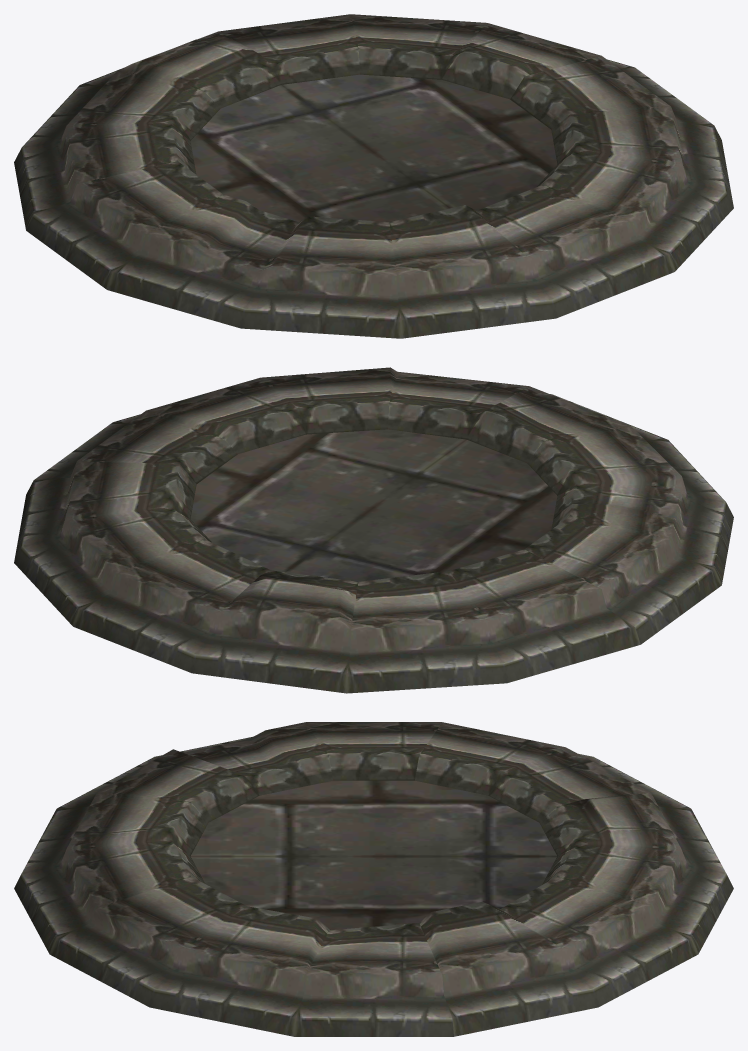
The model's file is h5_dimian.FBX.
3 views of the same model, one above another, from view 1: azimuth 30°, elevation 25°; view 2: azimuth 150°, elevation 25°; view 3: azimuth 270°, elevation 25° (orthographic).
Visible parts, largest first — view 1: h5_dimian; view 2: h5_dimian; view 3: h5_dimian.
Boxes of the visible parts, x1=… form: h5_dimian: x1=14, y1=14, x2=733, y2=338; h5_dimian: x1=14, y1=367, x2=733, y2=693; h5_dimian: x1=14, y1=722, x2=733, y2=1036.
Bounding box in the file's own units: 5.59 × 0.4952 × 5.73.
